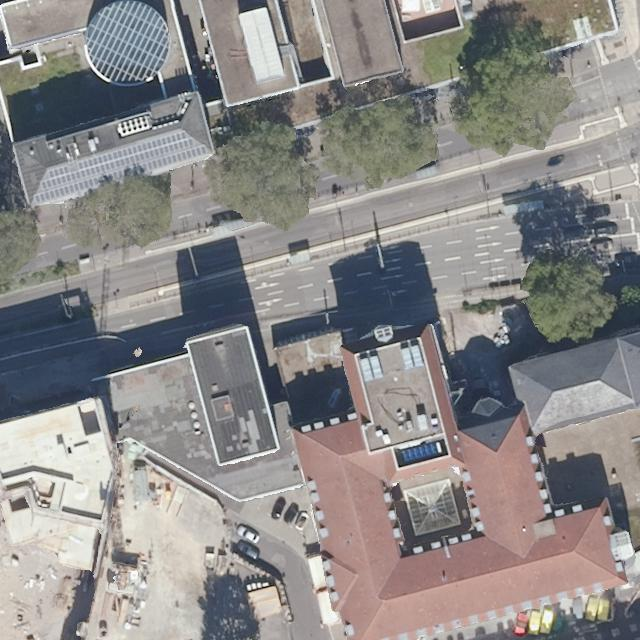PV: (31, 128, 209, 204)
